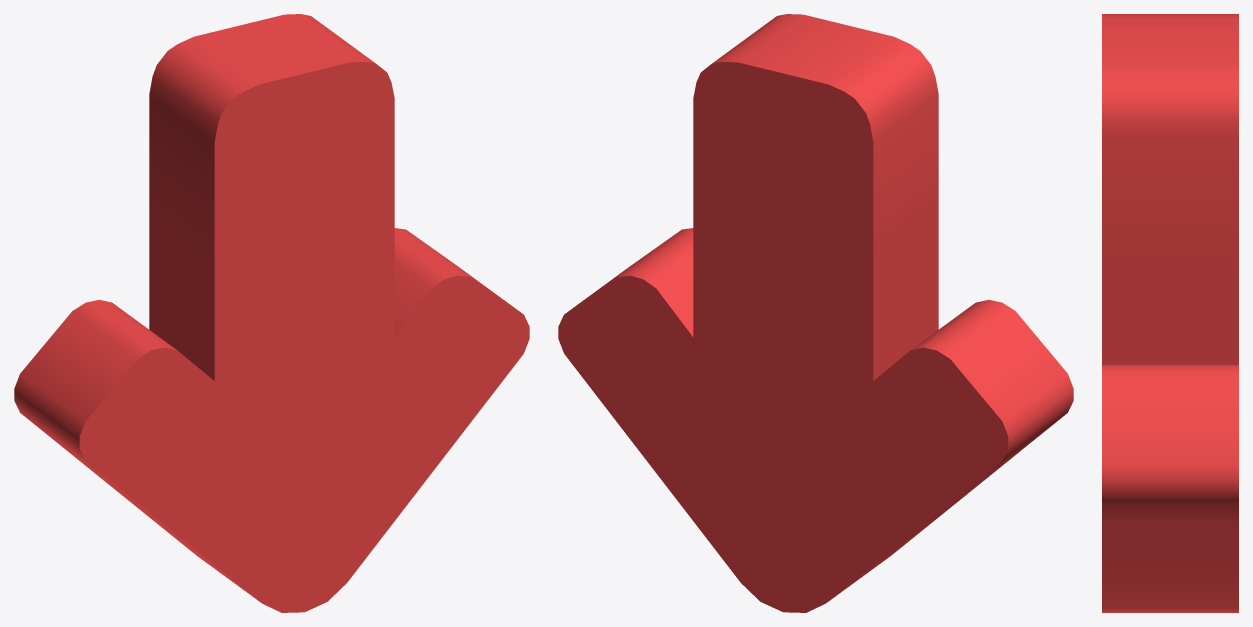
The model's file is jiantou.FBX.
3 views of the same model, side by side, from view 1: azimuth 30°, elevation 25°; view 2: azimuth 150°, elevation 25°; view 3: azimuth 270°, elevation 25° (orthographic). The views are drawn at different scales.
Parts seen in each view (by area): view 1: jiantou; view 2: jiantou; view 3: jiantou.
Boxes of the visible parts, <box> form: jiantou: <box>14,14,529,612</box>; jiantou: <box>558,14,1073,612</box>; jiantou: <box>1102,14,1238,612</box>.
Size of the model in its own units: 17.36 by 19.86 by 4.37.
